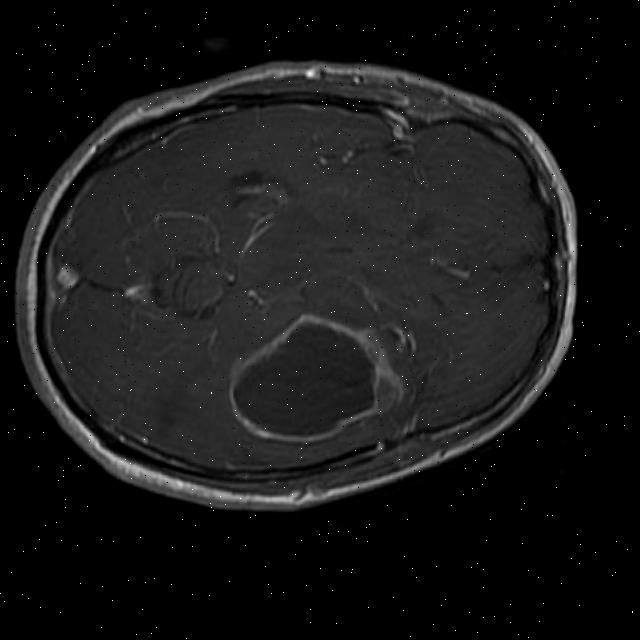Glioma: (226, 309, 407, 449)
